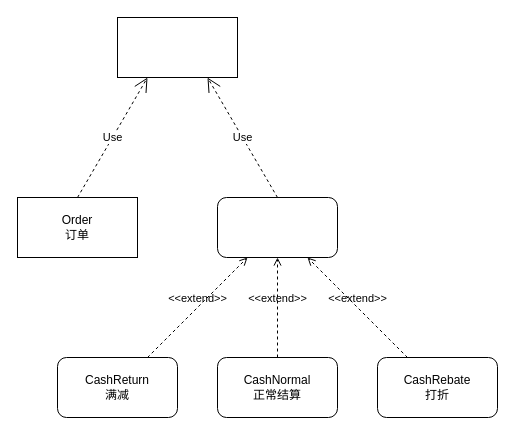
Some shapes in this 515 by 435 pixel diagram are drawn without their labels. The shapes that lost their labels are listed below. From the top down, each one's centre as x and y in pixels, then its label:
[177,47]: CashBuilder 订单建造者
[277,227]: CashSuper 收费抽象类
